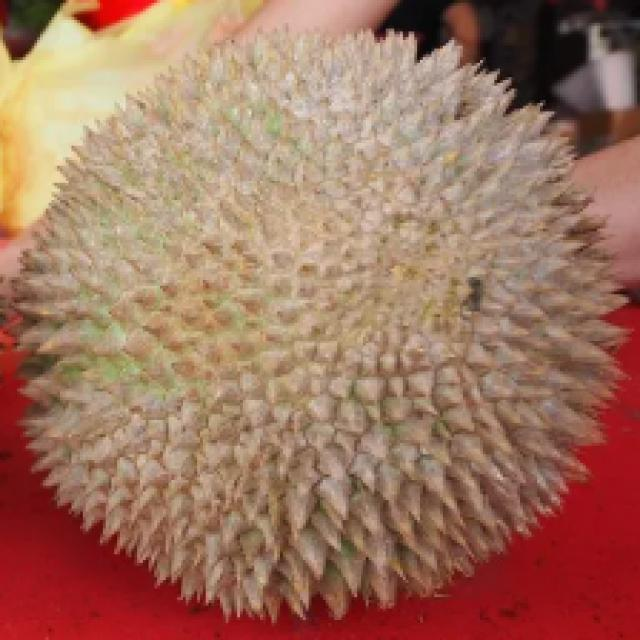d175: (22, 32, 621, 630)
